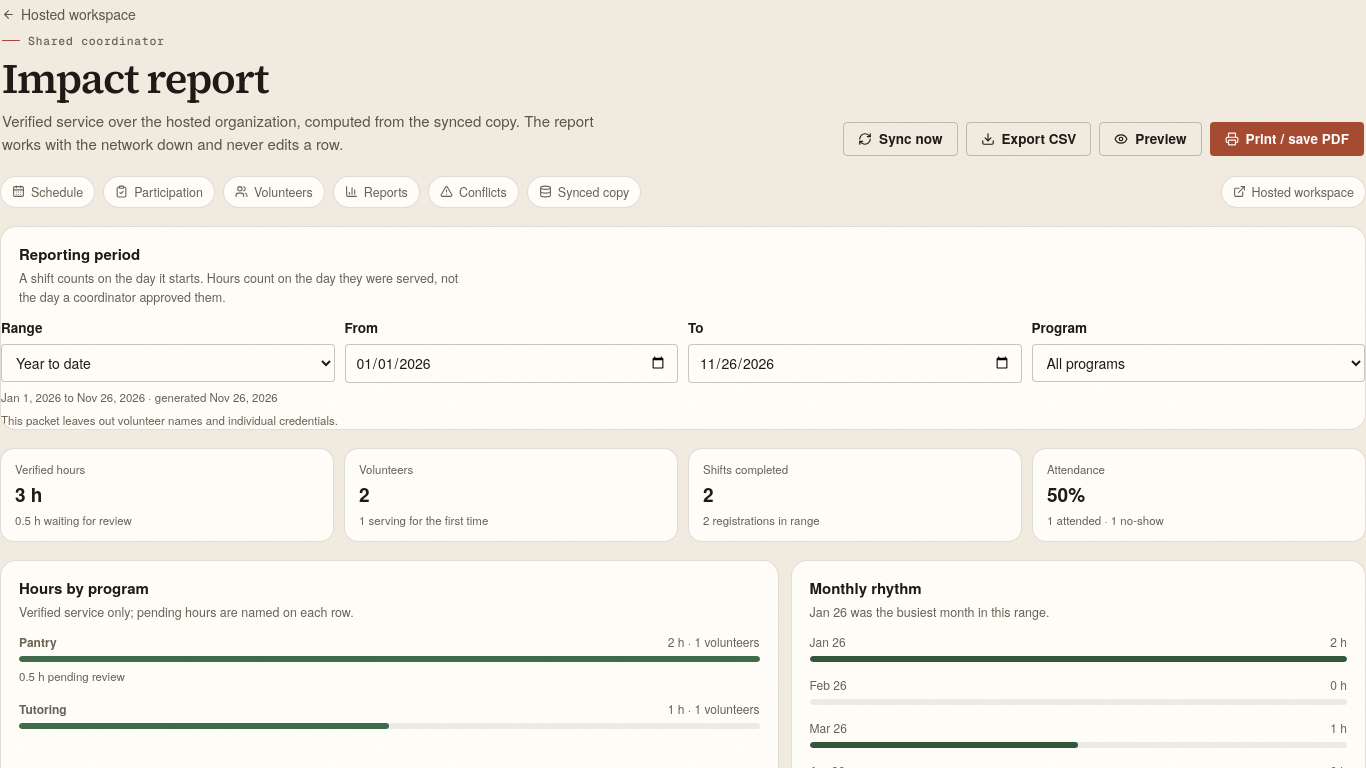
it: shared impact report › routes printing through the preview instead of printing straight away
Click the button "Print / save PDF": [1287, 139] box [1210,122,1364,156]
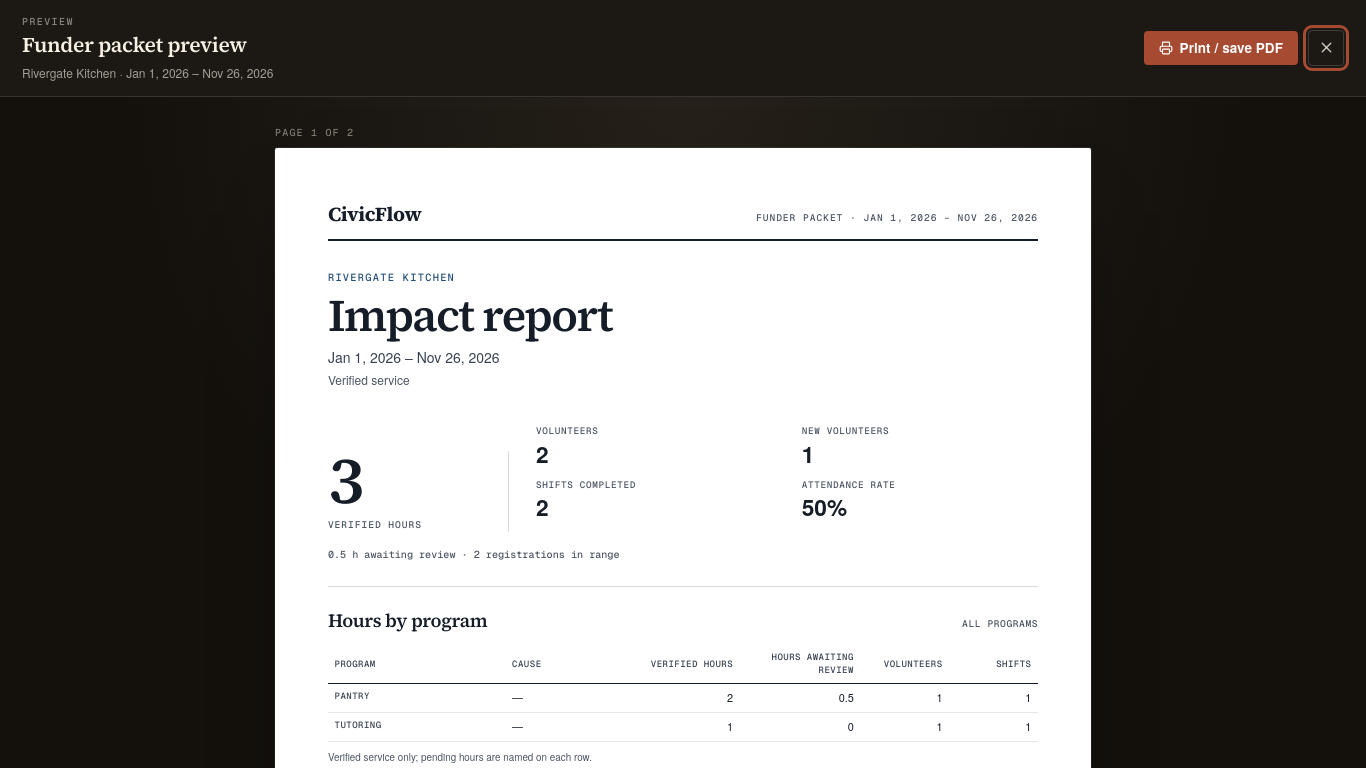
Result: the dialog "Funder packet preview" is shown
